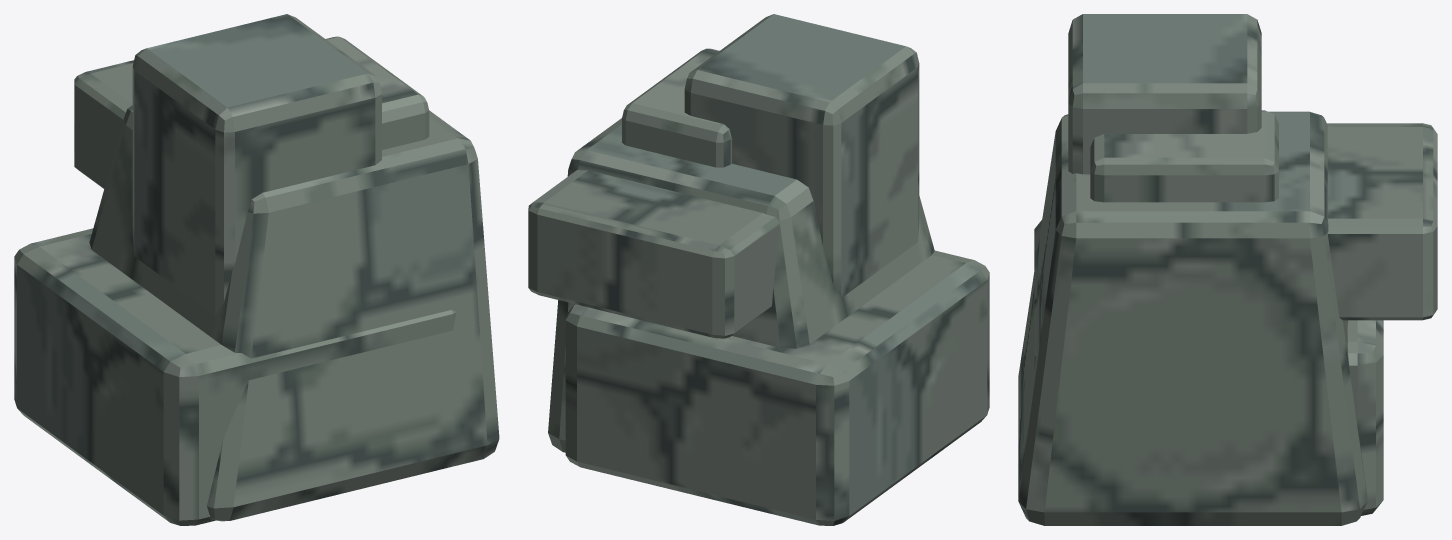
Rendered from rock3.fbx.
The picture shows the model from 3 angles, left to right: view 1: azimuth 30°, elevation 25°; view 2: azimuth 150°, elevation 25°; view 3: azimuth 270°, elevation 25°; orthographic projection. The views are drawn at different scales.
Visible parts, largest first — view 1: Cube.015; view 2: Cube.015; view 3: Cube.015.
Boxes of the visible parts, left/top/right/bottom form: Cube.015: left=14, top=14, right=499, bottom=525; Cube.015: left=528, top=14, right=989, bottom=525; Cube.015: left=1018, top=14, right=1437, bottom=525.
Size of the model in its own units: 172 by 199 by 190.
Materials: 1 (1 with a texture image).
